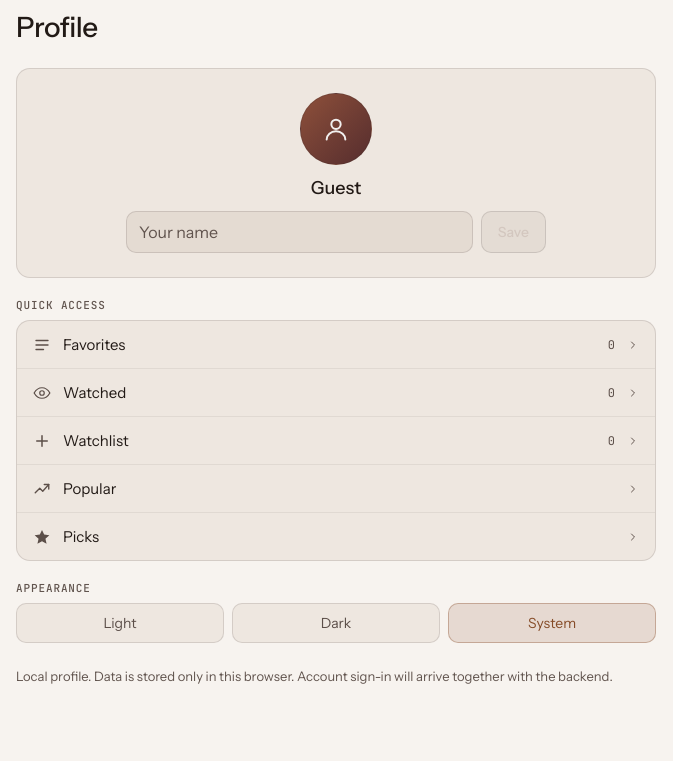
Test: Profile › на тач-устройстве (грубый основной указатель) Save и Clear не переносят фокус на инпут
This screenshot has width=673, height=761.
Type "Oleg" into the field named "Display name" at [299, 232], box [126,211,473,253]
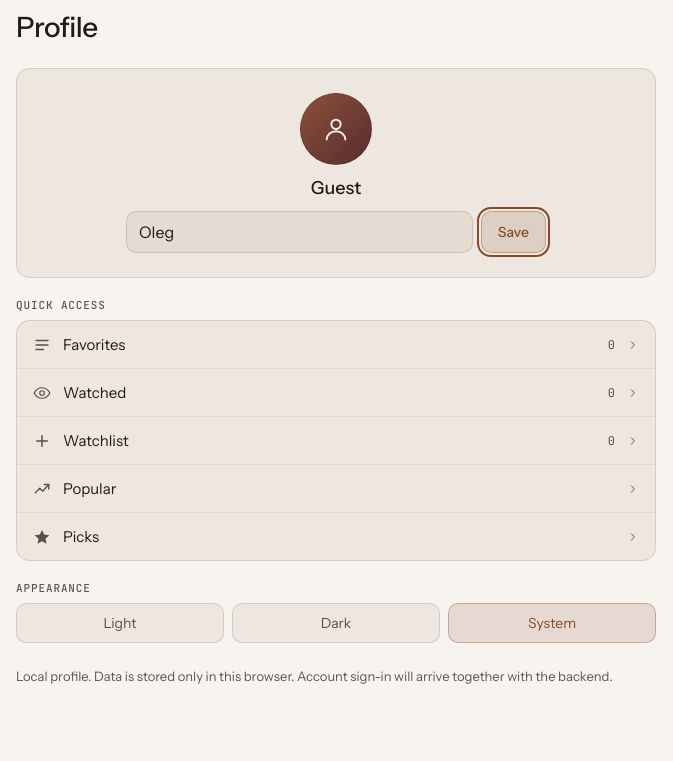
Click the button "Save" at [513, 232], box [481,211,546,253]
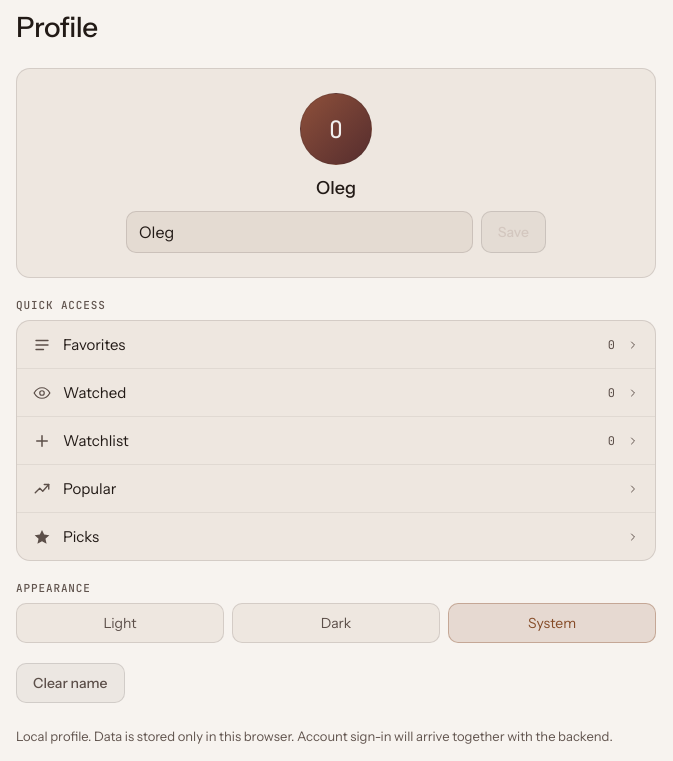
Expected: the text "Oleg" is shown, [316,177,356,199]
Click the button "Clear name" at [70, 683], box [16,663,125,703]
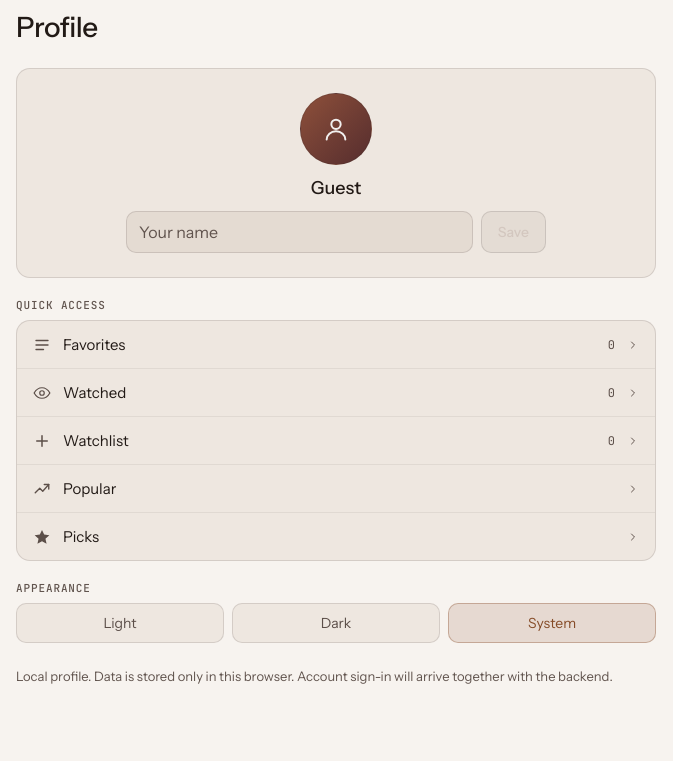
Expected: the text "Guest" is shown, [311,177,361,199]
